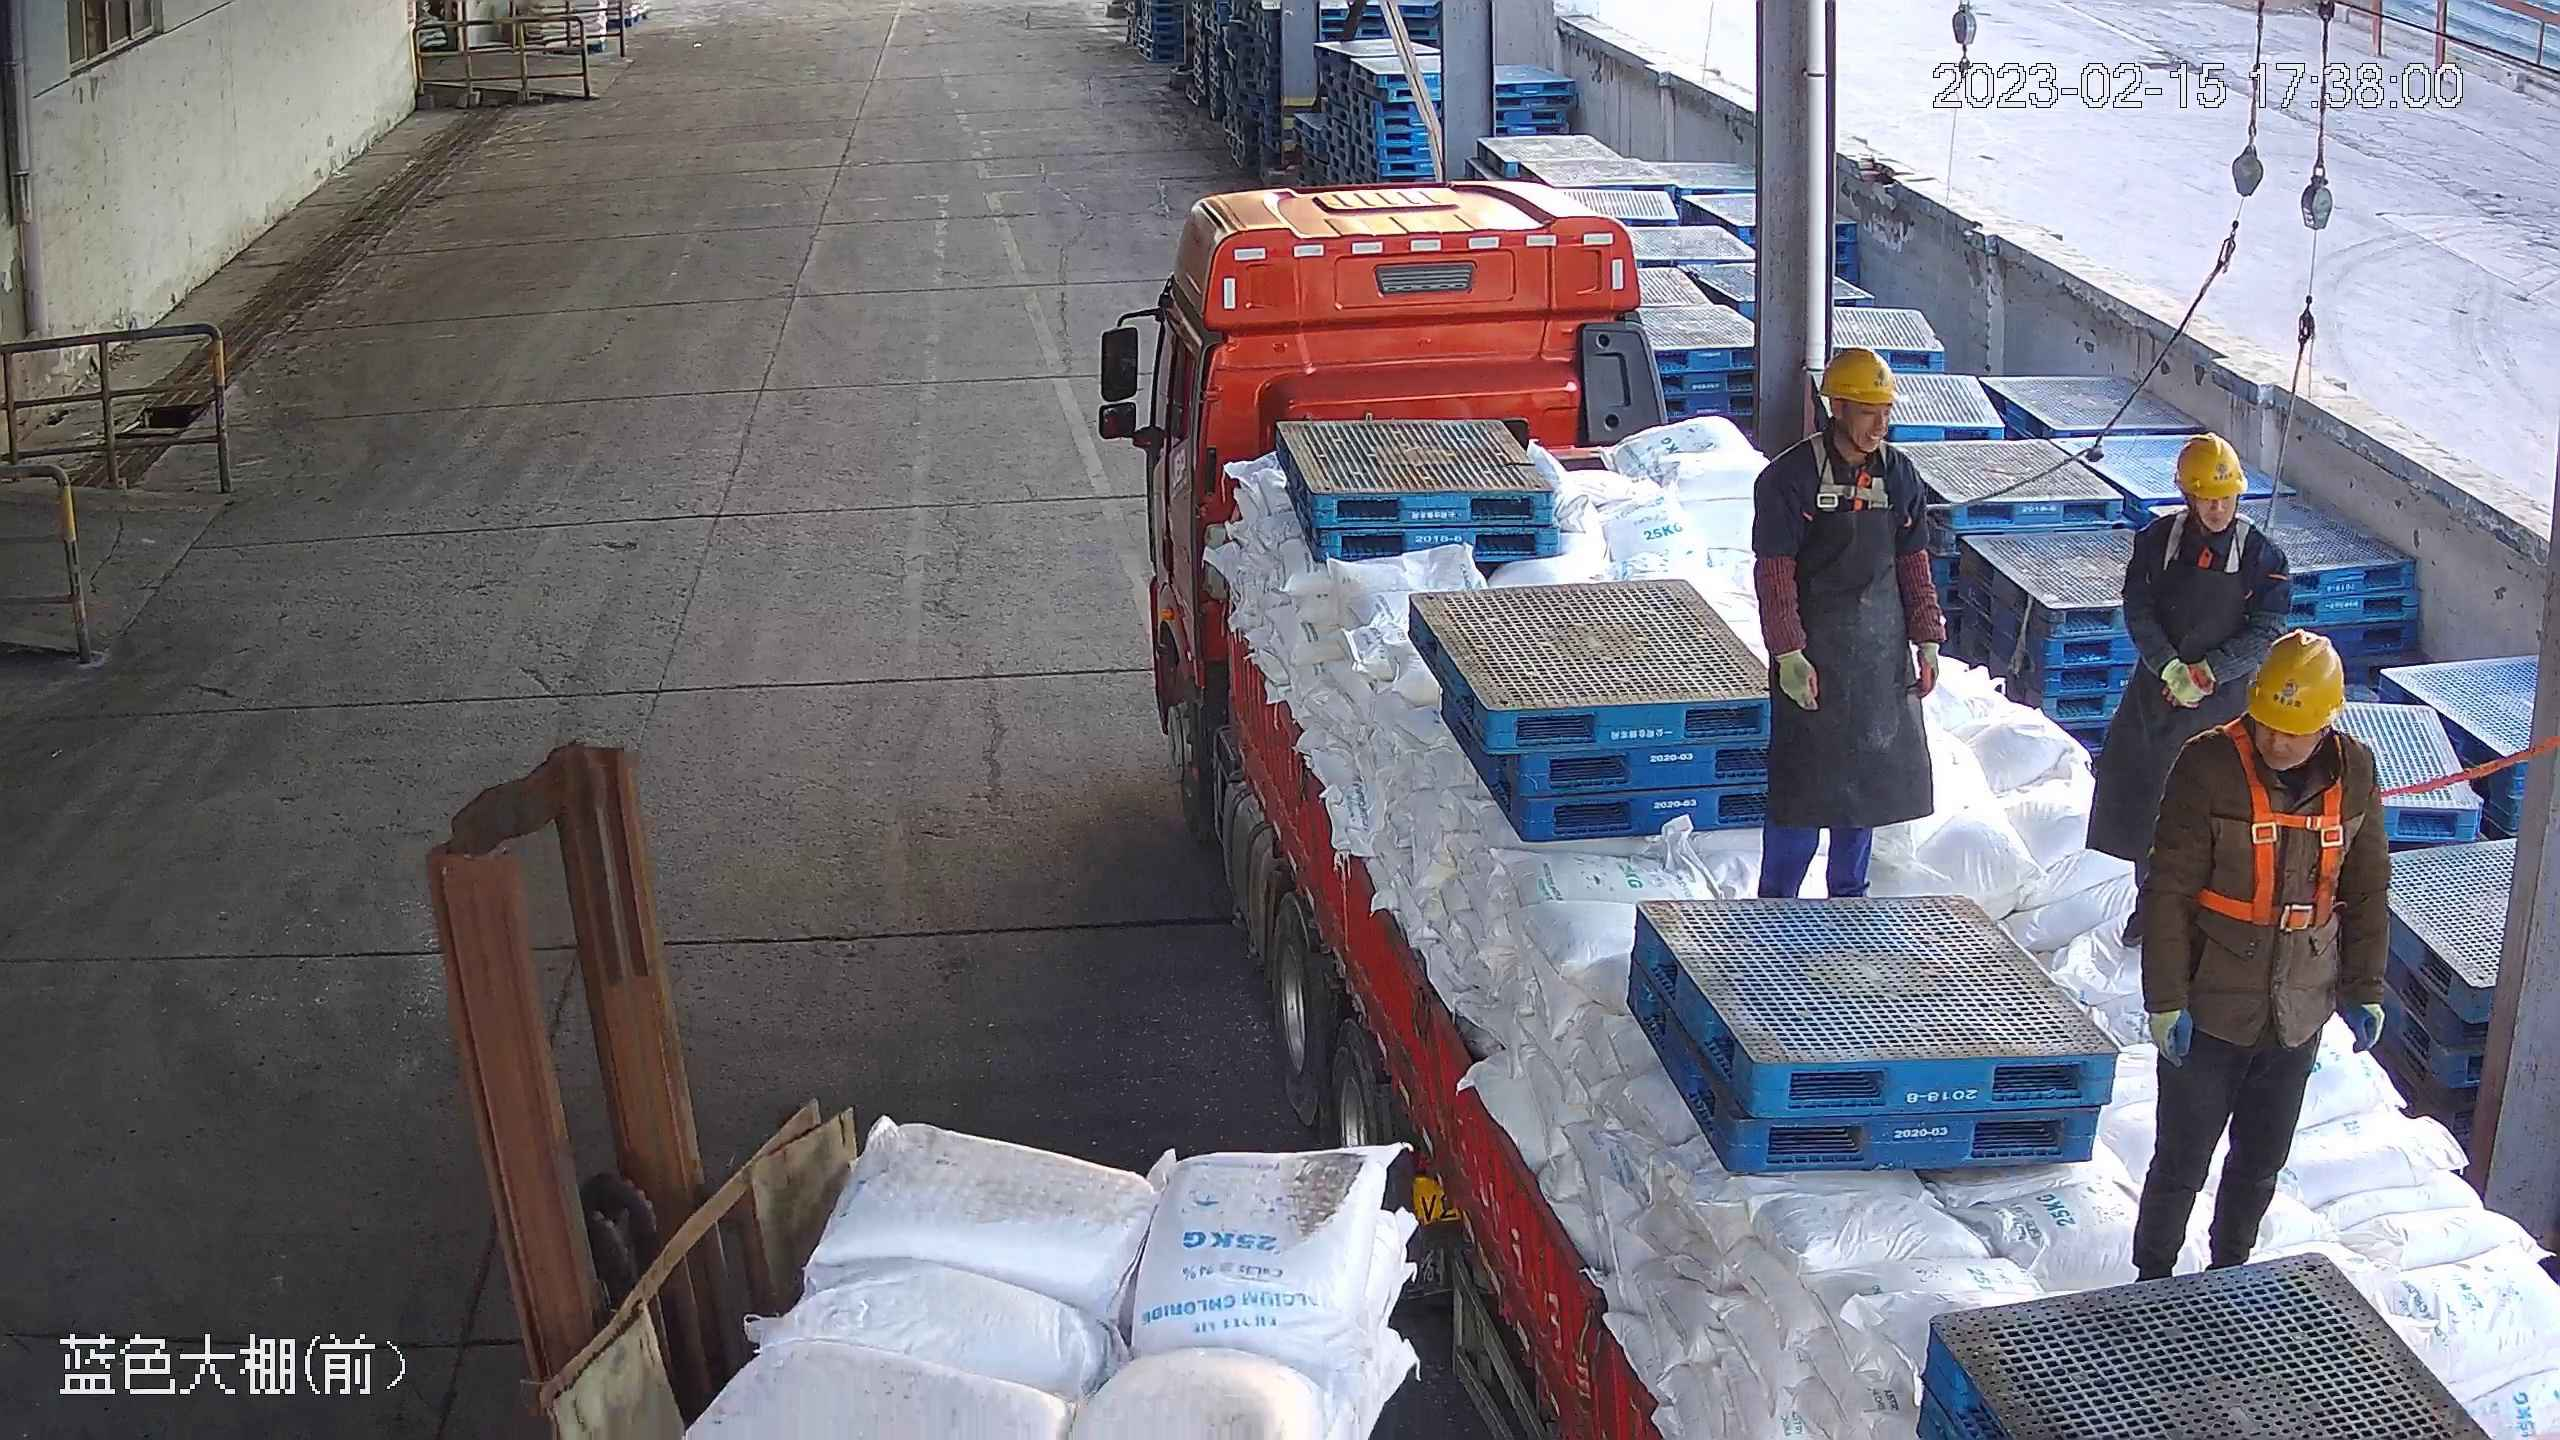belt: (2212, 723, 2348, 940), (1799, 431, 1916, 529), (2155, 501, 2279, 579)
head: (2168, 642, 2386, 814), (1751, 353, 1940, 529), (2099, 434, 2288, 607)
helmet: (2244, 632, 2361, 738), (1812, 342, 1905, 408), (2170, 431, 2257, 497)
people: (2135, 631, 2392, 1299), (1746, 355, 1946, 925), (2090, 432, 2305, 923)
truck: (1103, 168, 2560, 1440)
